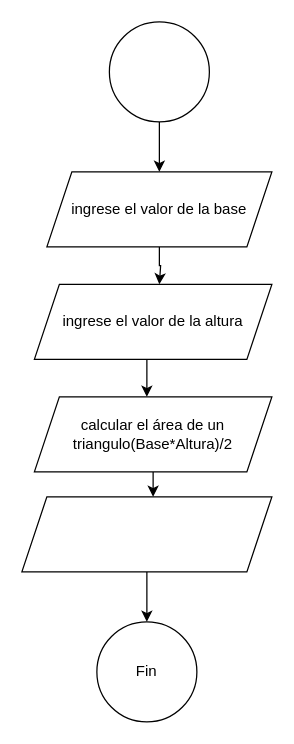
The diagram is 294 pixels wide and 744 high, and some of its shapes have lost their labels. Each missing label, with the centre of its shape:
"inicio" belongs at point (158, 71).
"revelar el valor del área" belongs at point (146, 534).
